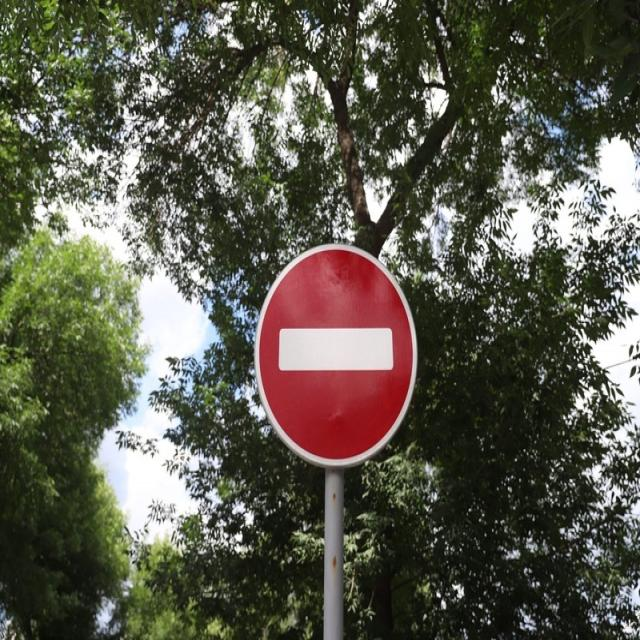no entry: (255, 239, 424, 476)
